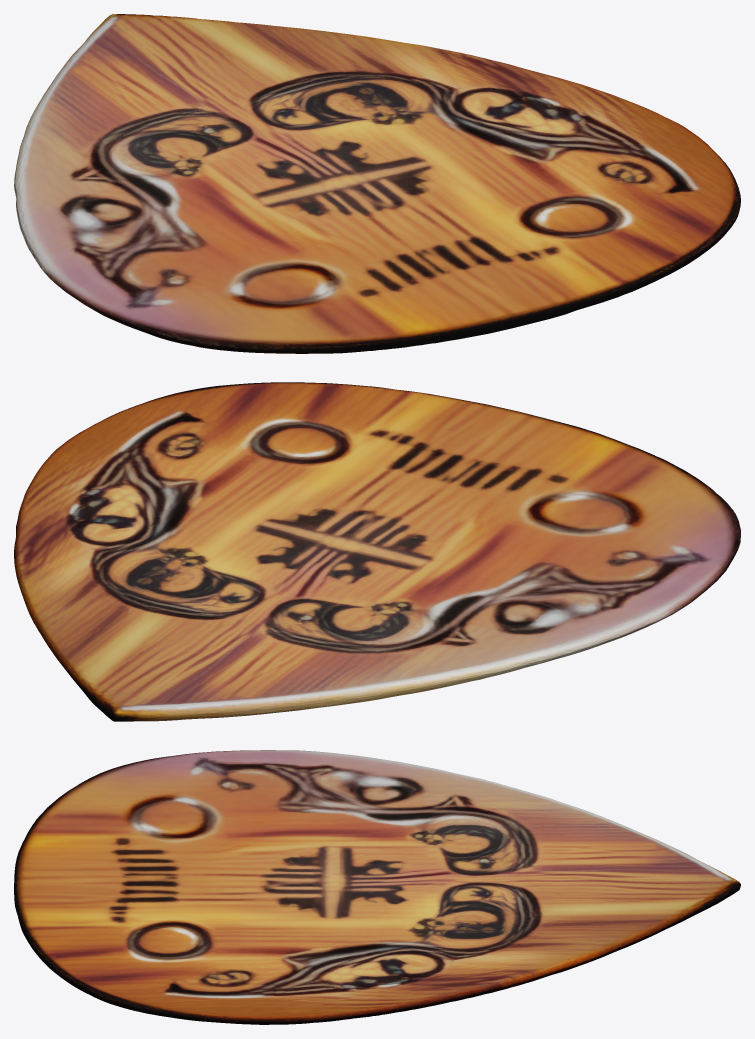
File: wooden-guitar-pick-vintage.jpeg.glb
The picture shows the model from 3 angles, top to bottom: view 1: azimuth 30°, elevation 25°; view 2: azimuth 150°, elevation 25°; view 3: azimuth 270°, elevation 25°; orthographic projection. The views are drawn at different scales.
Visible parts, largest first — view 1: world; view 2: world; view 3: world.
Part boxes in pixels (x1,y1,x2,y2): world: (14,14,740,353); world: (14,382,740,721); world: (14,750,740,1024).
Size of the model in its own units: 0.8823 by 0.018 by 1.
1 material, 1 textured.
